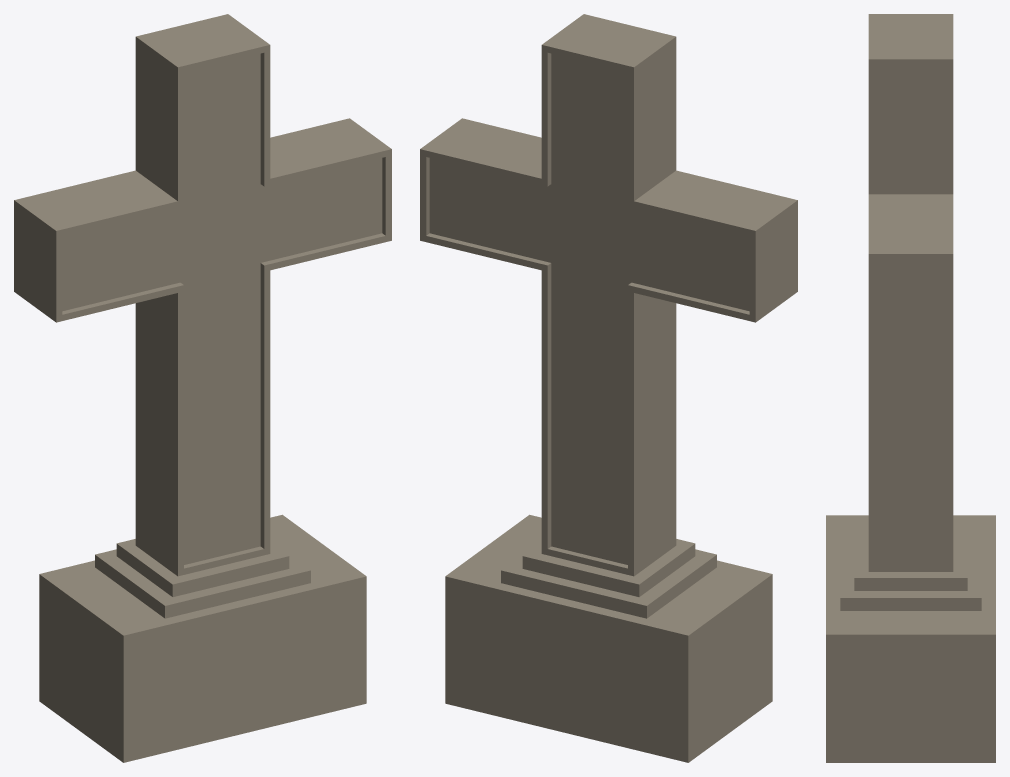
File: low_poly_tomb1.fbx
The picture shows the model from 3 angles, left to right: view 1: azimuth 30°, elevation 25°; view 2: azimuth 150°, elevation 25°; view 3: azimuth 270°, elevation 25°; orthographic projection.
Parts seen in each view (by area): view 1: Cube; view 2: Cube; view 3: Cube.
Boxes of the visible parts, box(x1,y1,x2,y2) form: Cube: box(14, 14, 391, 762); Cube: box(420, 14, 797, 762); Cube: box(826, 14, 995, 762).
Size of the model in its own units: 552 by 1040 by 240.
